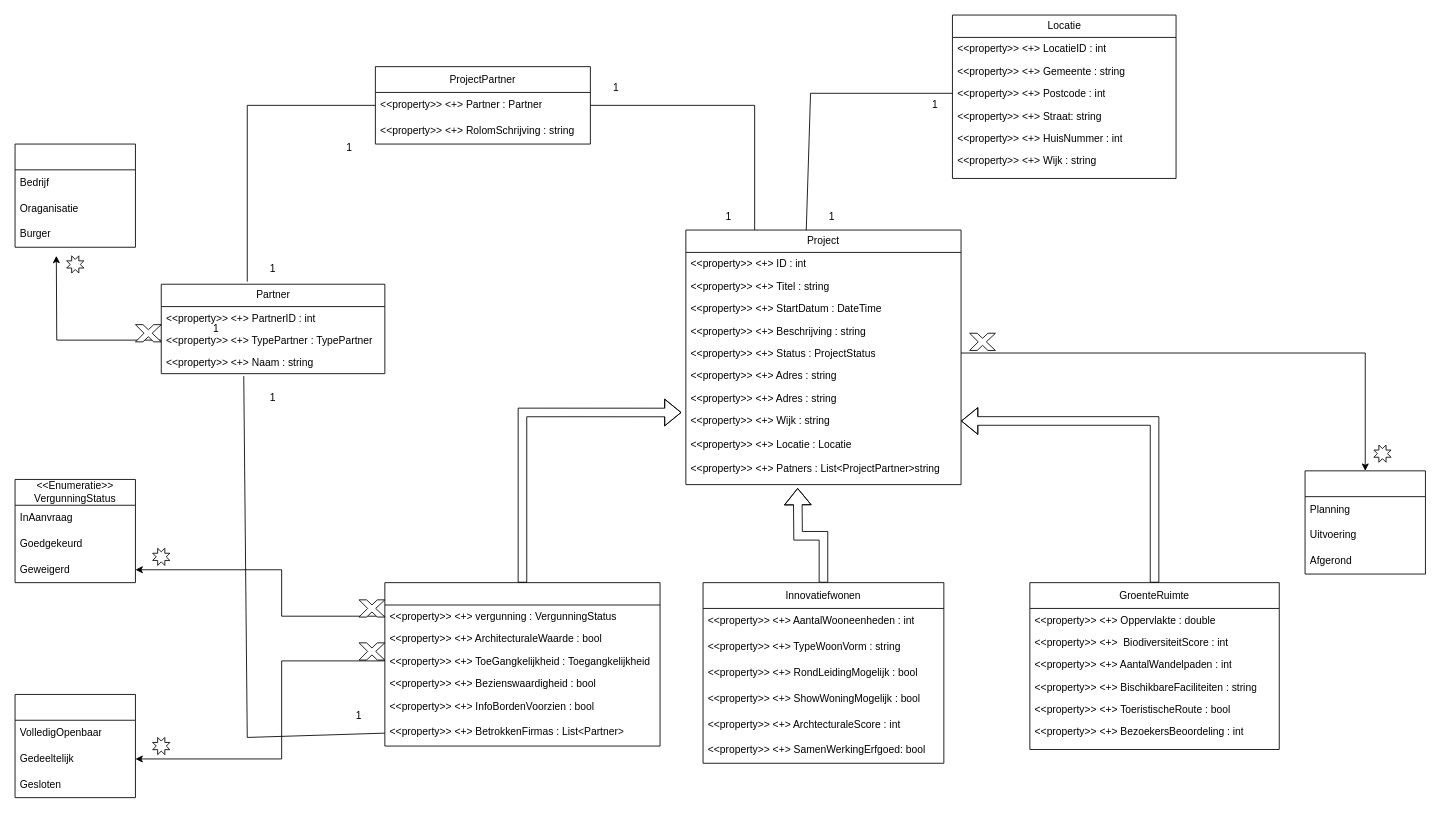
This 1441x813 diagram has some shape labels left out. The shapes that lost their labels are listed below. From the top down, each one's box as (x1, y1, x2, y2) in pixels, then its label:
(14, 143, 135, 247): <<Enumeratie>> TypePartner
(1304, 470, 1425, 574): <<Enumeratie>> ProjectStatus
(384, 582, 660, 746): StadsOntwikkeling
(14, 694, 135, 798): <<Enumeratie>> Toegangelijkheid
